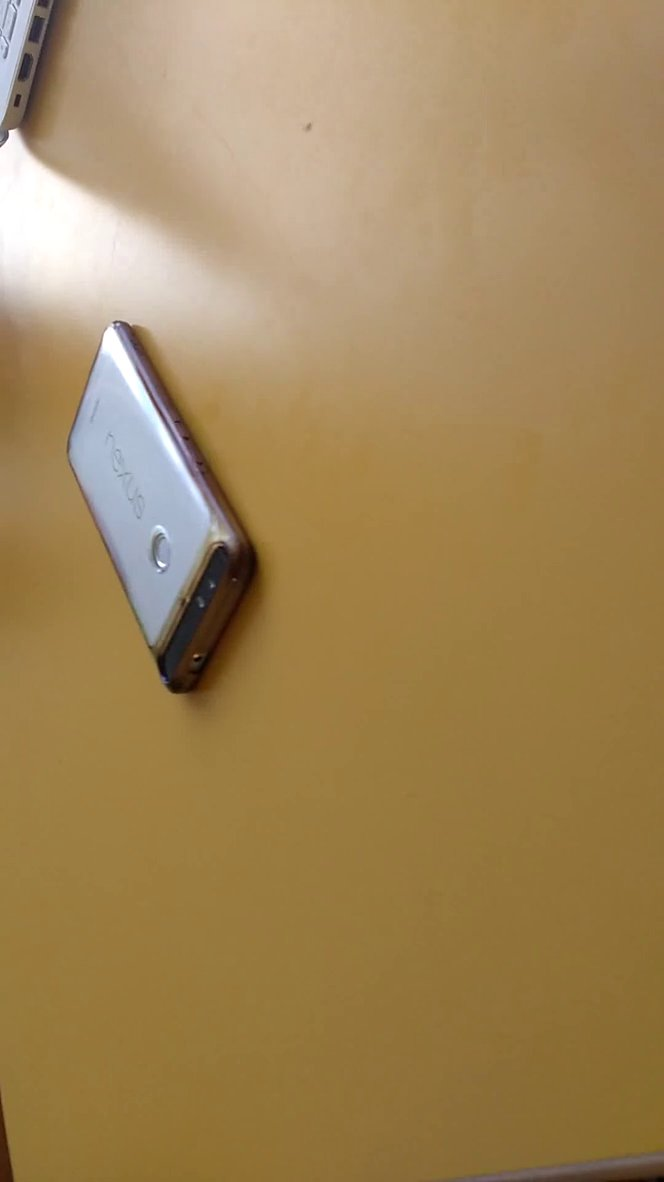phone: (54, 309, 286, 720)
